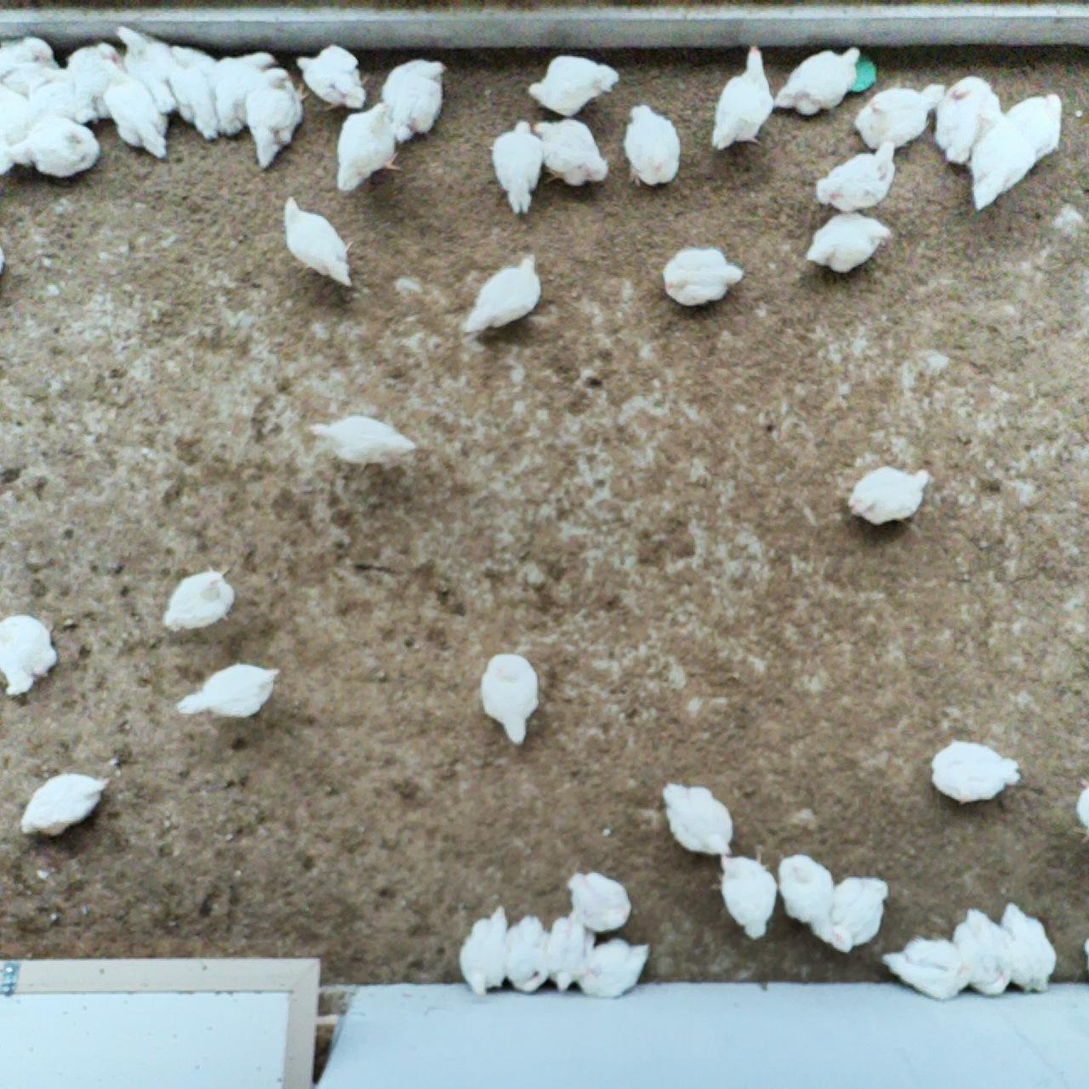chicken: (708, 40, 777, 154), (98, 55, 170, 162), (279, 194, 355, 292), (15, 770, 118, 842), (969, 110, 1038, 217), (926, 736, 1026, 807), (302, 412, 420, 472), (243, 66, 311, 169), (813, 134, 899, 215), (801, 206, 898, 277), (464, 251, 544, 337), (774, 43, 864, 118), (113, 20, 182, 117), (880, 932, 974, 1003), (172, 662, 283, 722), (709, 847, 779, 942), (336, 98, 405, 194), (853, 80, 946, 151), (208, 47, 279, 139), (4, 114, 100, 181), (656, 777, 735, 858), (933, 75, 1002, 167), (526, 53, 620, 120), (478, 650, 543, 746), (380, 55, 449, 145), (158, 562, 241, 634), (485, 118, 545, 217), (999, 900, 1061, 995), (952, 905, 1015, 998), (845, 463, 932, 528), (777, 851, 837, 945), (532, 118, 612, 187), (621, 101, 683, 190), (661, 246, 745, 311), (827, 874, 894, 954), (455, 902, 509, 1001), (0, 613, 59, 698), (578, 937, 656, 1001), (293, 42, 365, 111), (163, 42, 215, 134), (65, 38, 125, 117), (29, 66, 95, 132), (504, 912, 553, 998), (548, 908, 596, 995), (1008, 89, 1064, 163), (564, 868, 634, 925), (0, 31, 59, 91), (0, 80, 34, 171)
